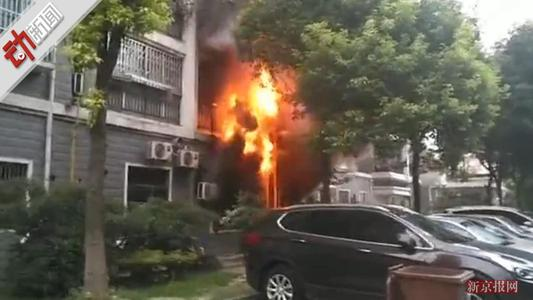fire: (207, 53, 310, 202)
